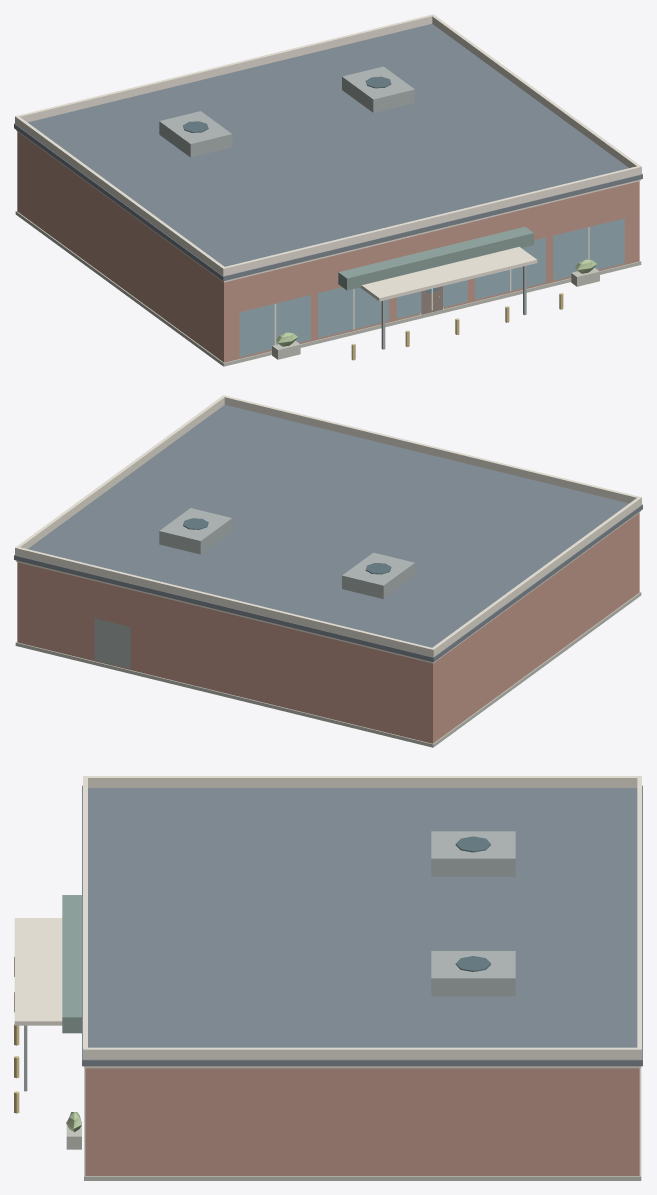
File: shop-fresh-market.glb
The picture shows the model from 3 angles, top to bottom: view 1: azimuth 30°, elevation 25°; view 2: azimuth 150°, elevation 25°; view 3: azimuth 270°, elevation 25°; orthographic projection. The views are drawn at different scales.
Visible parts, largest first — view 1: shop-fresh-market; view 2: shop-fresh-market; view 3: shop-fresh-market.
Boxes of the visible parts, bbox=[...] form: shop-fresh-market: bbox=[14, 14, 642, 366]; shop-fresh-market: bbox=[14, 395, 642, 747]; shop-fresh-market: bbox=[14, 776, 642, 1180].
Size of the model in its own units: 29.3 by 7.01 by 28.37.
